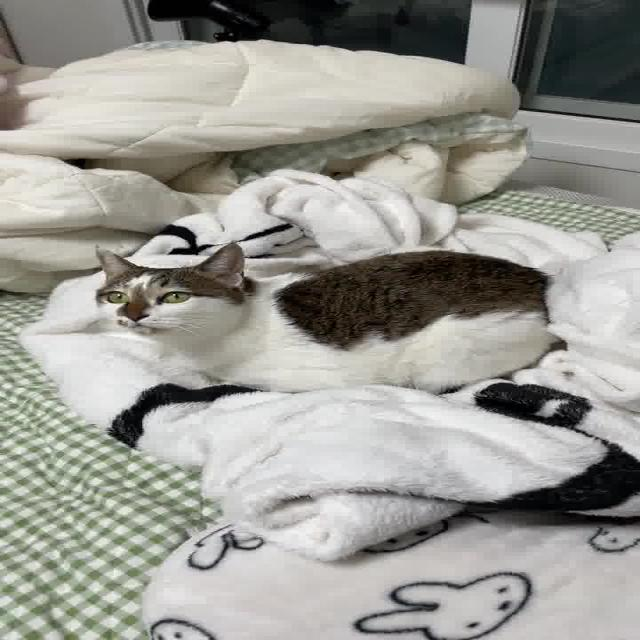cat: (55, 225, 581, 406)
